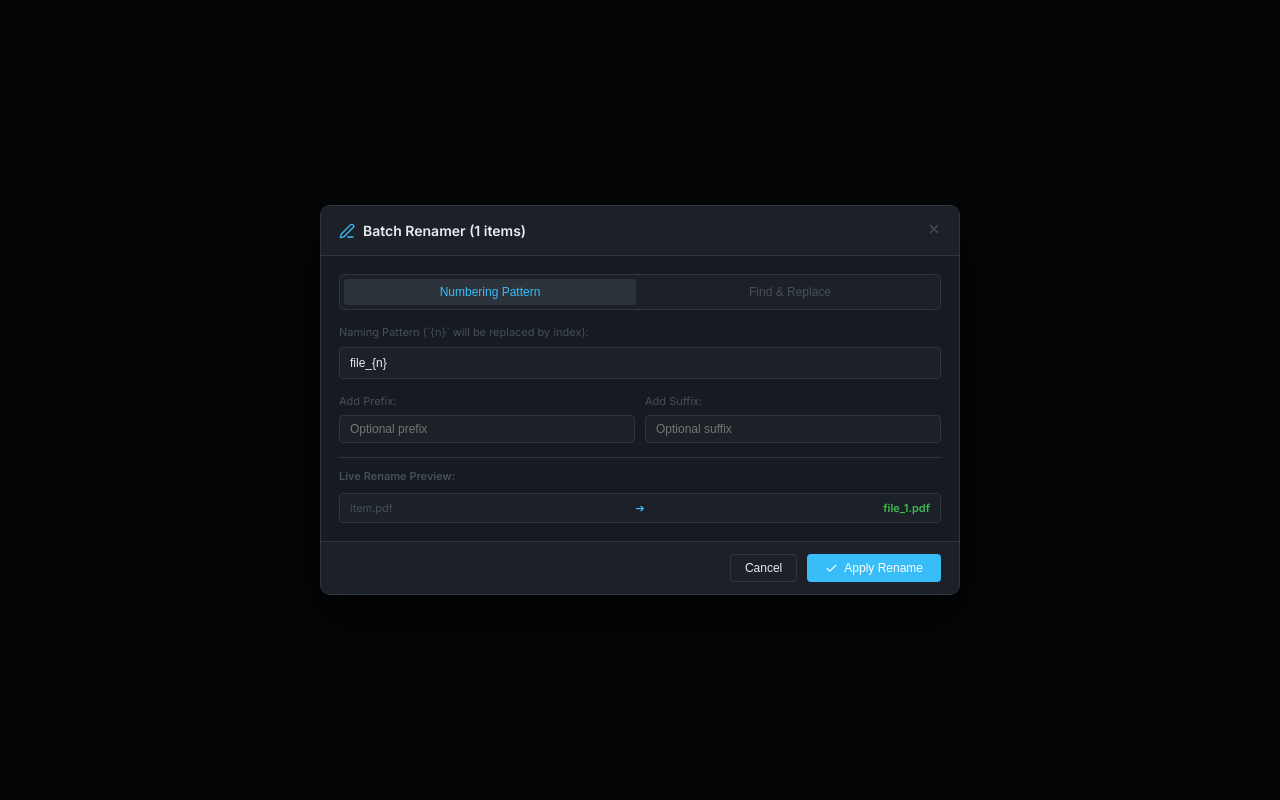
Test case: BatchRenameModal Component Tests › applies prefix and suffix inputs
The width and height of the screenshot is (1280, 800).
Type "PRE_" into the field with placeholder "Optional prefix" at (487, 429), box [339,415,635,443]
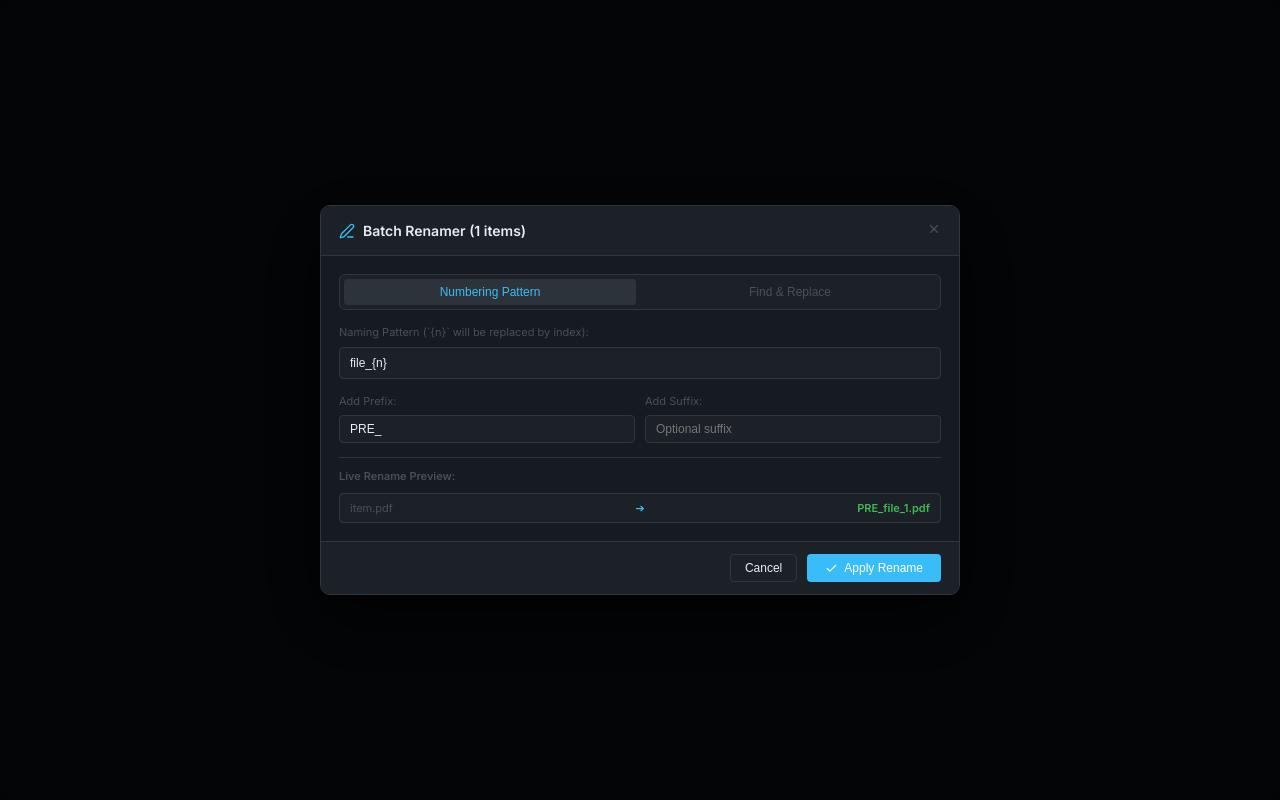
Type "_POST" into the field with placeholder "Optional suffix" at (793, 429), box [645,415,941,443]
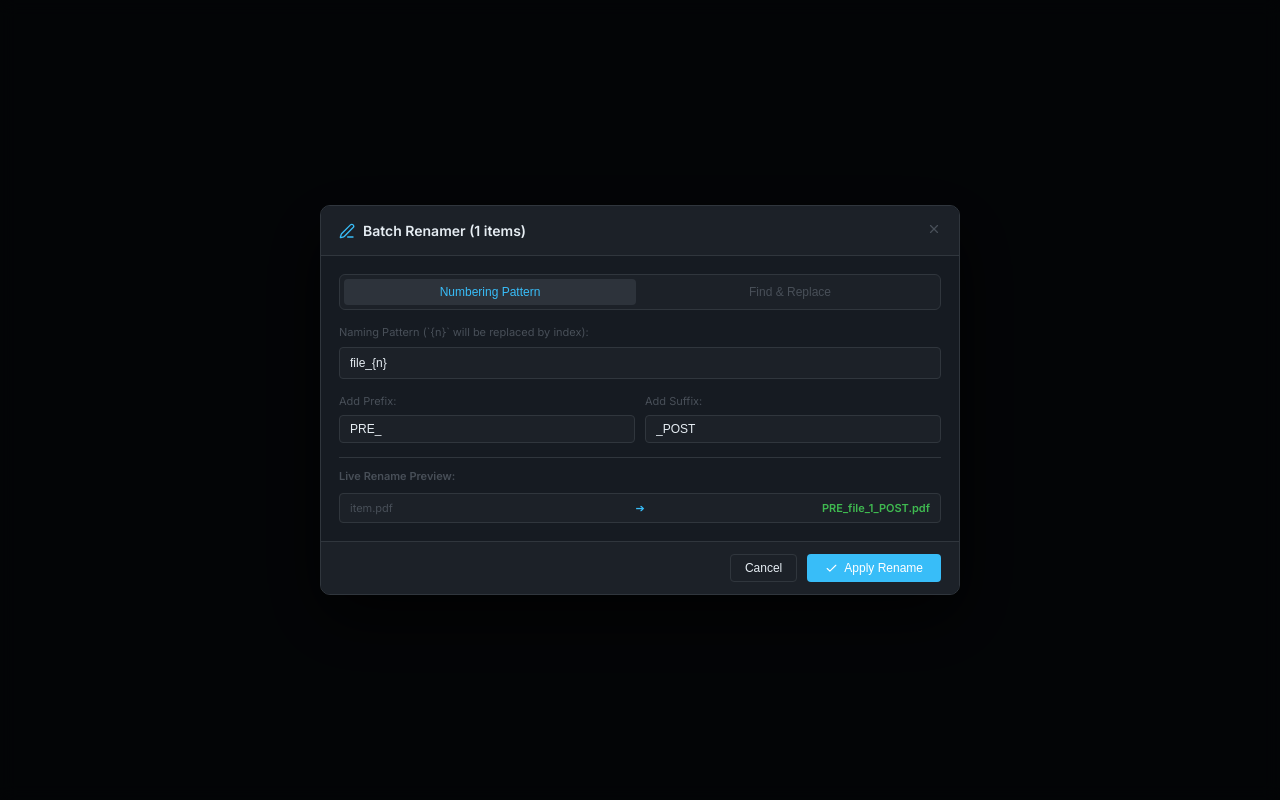
Expected: the text "PRE_file_1_POST.pdf" is shown, [822,500,930,514]
